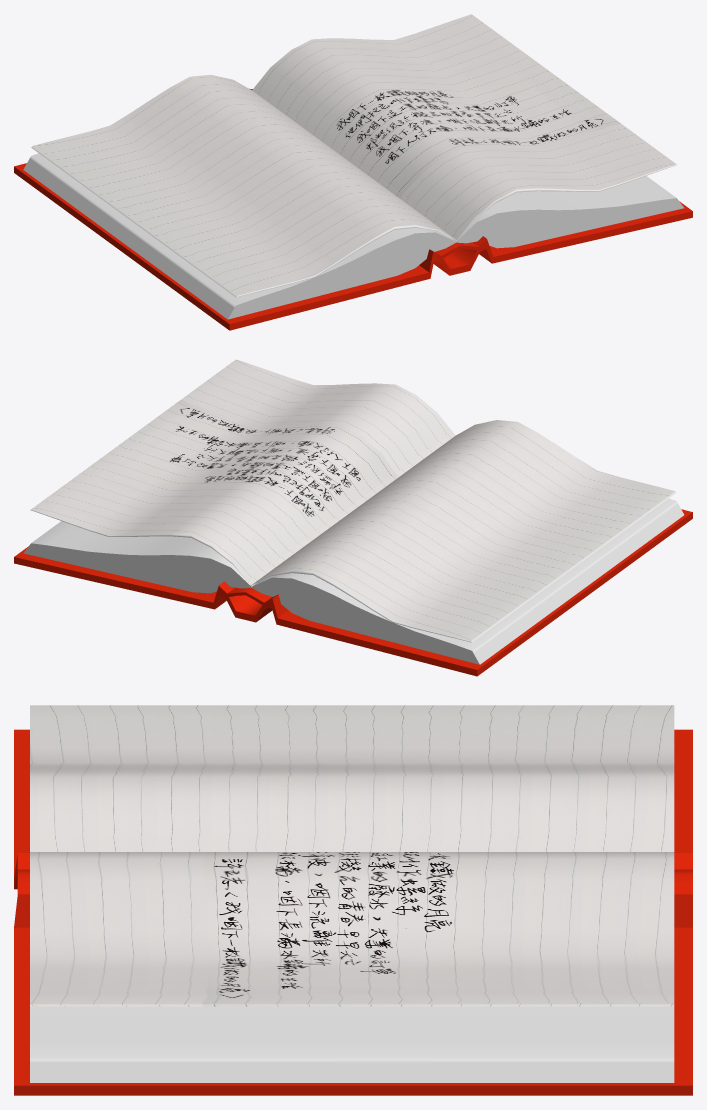
Rendered from POEM BOOK.fbx.
3 views of the same model, one above another, from view 1: azimuth 30°, elevation 25°; view 2: azimuth 150°, elevation 25°; view 3: azimuth 270°, elevation 25° (orthographic). The views are drawn at different scales.
Visible parts, largest first — view 1: quran1.001, quran1.002, quran1; view 2: quran1.001, quran1.002, quran1; view 3: quran1.001, quran1.002, quran1.
Part boxes in pixels (x1=…): quran1.001: x1=252, y1=14, x2=676, y2=240; quran1.002: x1=31, y1=75, x2=456, y2=297; quran1: x1=14, y1=88, x2=692, y2=330; quran1.001: x1=30, y1=359, x2=455, y2=585; quran1.002: x1=249, y1=420, x2=676, y2=642; quran1: x1=14, y1=498, x2=692, y2=676; quran1.001: x1=30, y1=852, x2=674, y2=1006; quran1.002: x1=30, y1=705, x2=674, y2=851; quran1: x1=14, y1=729, x2=692, y2=1095.
Size of the model in its own units: 2115 by 299 by 1705.
